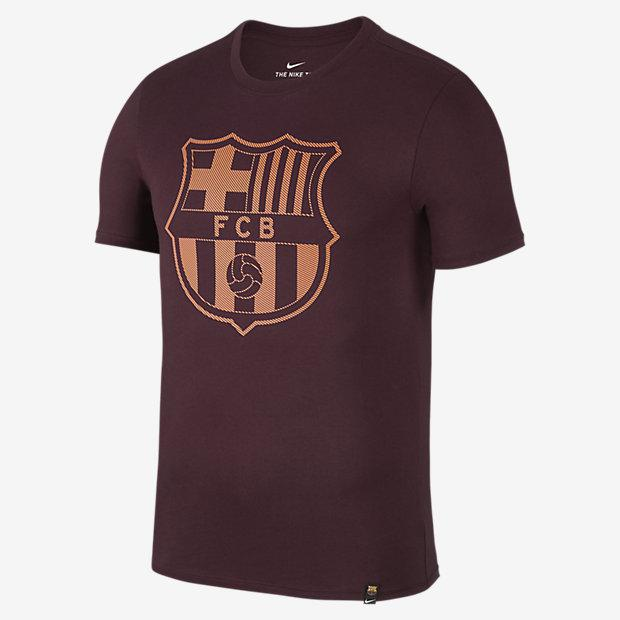teeshirt: (81, 12, 549, 611)
